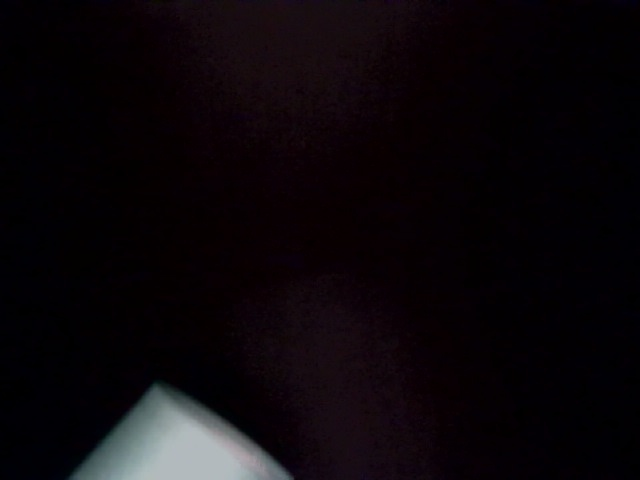KHSLJ: (1, 124, 528, 442)
